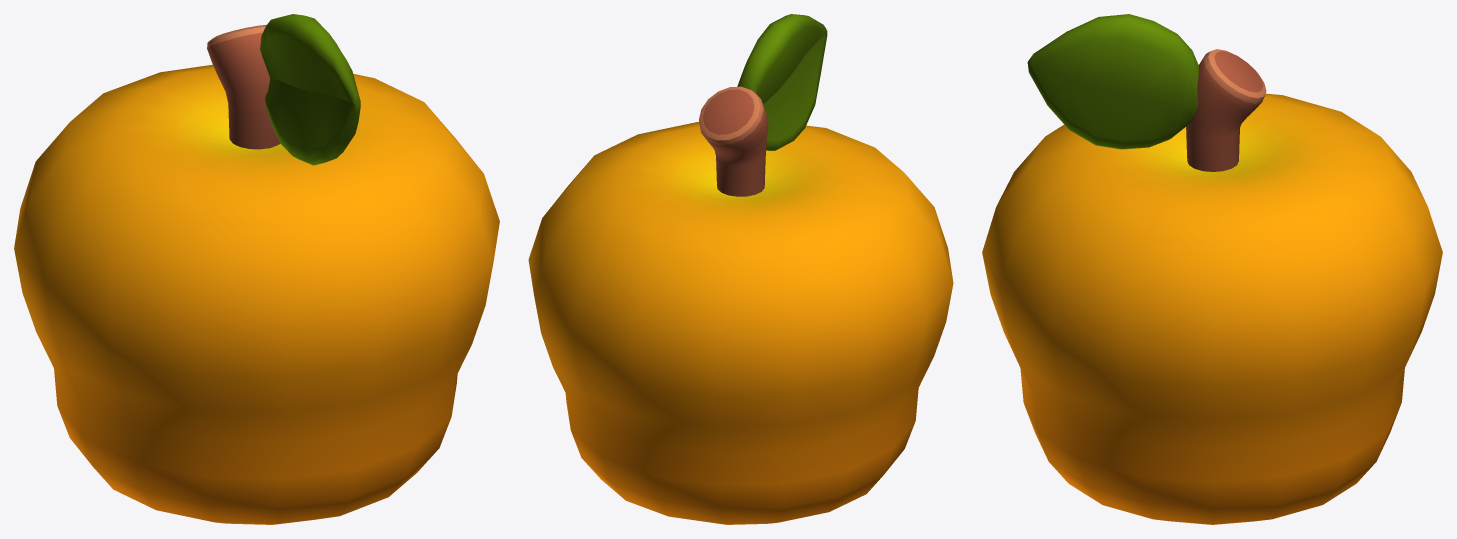
The model's file is Apple_V2_00.fbx.
3 renders of one model, left to right at view 1: azimuth 30°, elevation 25°; view 2: azimuth 150°, elevation 25°; view 3: azimuth 270°, elevation 25°, orthographic. The views are drawn at different scales.
Visible parts, largest first — view 1: Apple_V2_00; view 2: Apple_V2_00; view 3: Apple_V2_00.
Boxes of the visible parts, x1=… form: Apple_V2_00: x1=14, y1=14, x2=499, y2=524; Apple_V2_00: x1=528, y1=14, x2=953, y2=524; Apple_V2_00: x1=982, y1=14, x2=1442, y2=524.
Size of the model in its own units: 31.14 by 34.94 by 31.17.
